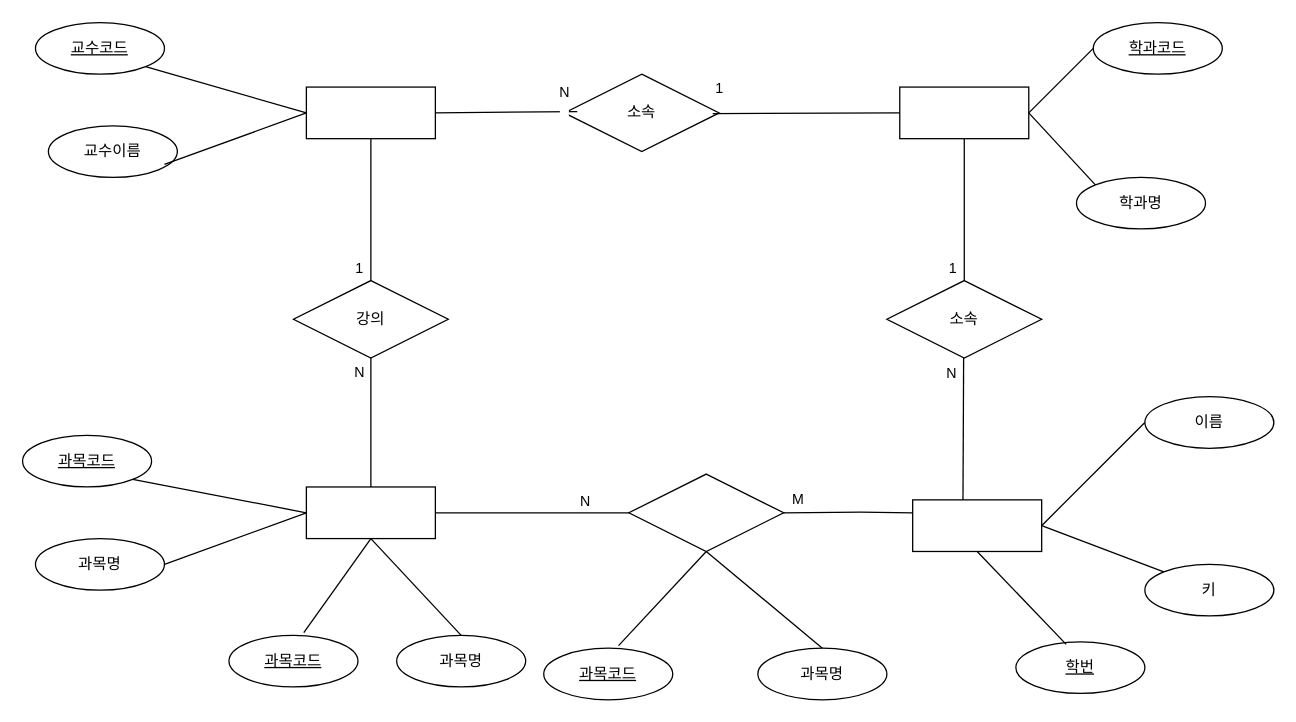
Some shapes in this 1296 by 722 pixel diagram are drawn without their labels. Each missing label, with the centre of its shape:
과목: (370,512)
교수: (370,112)
수강: (706,512)
학과: (963,112)
학생: (976,525)
